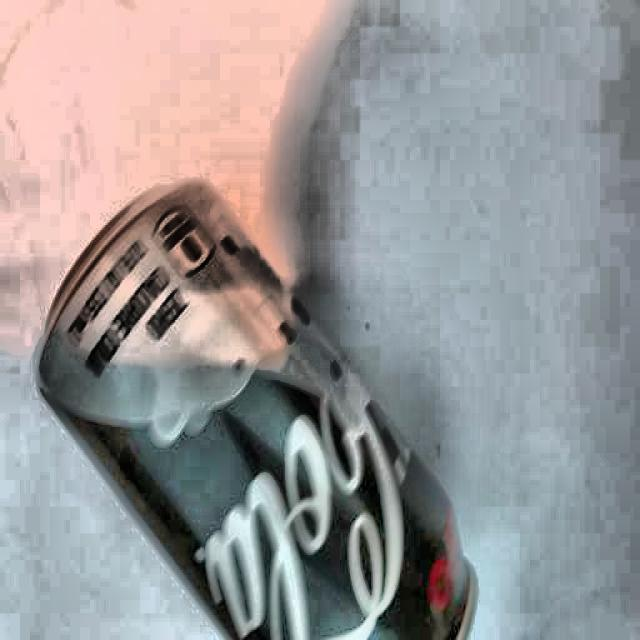metal: (32, 180, 497, 640)
